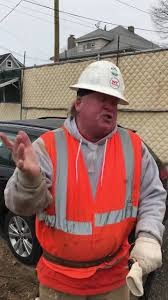hard hat: (69, 61, 128, 104)
high-vis: (34, 125, 143, 276)
